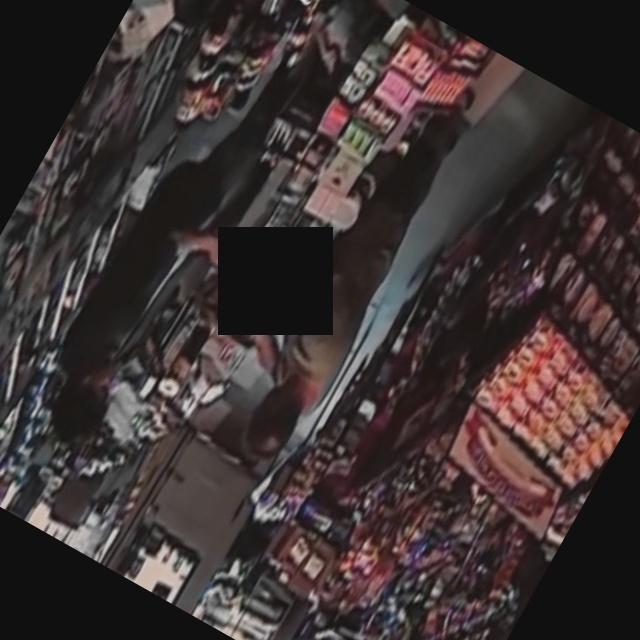gun: (192, 278, 218, 334)
